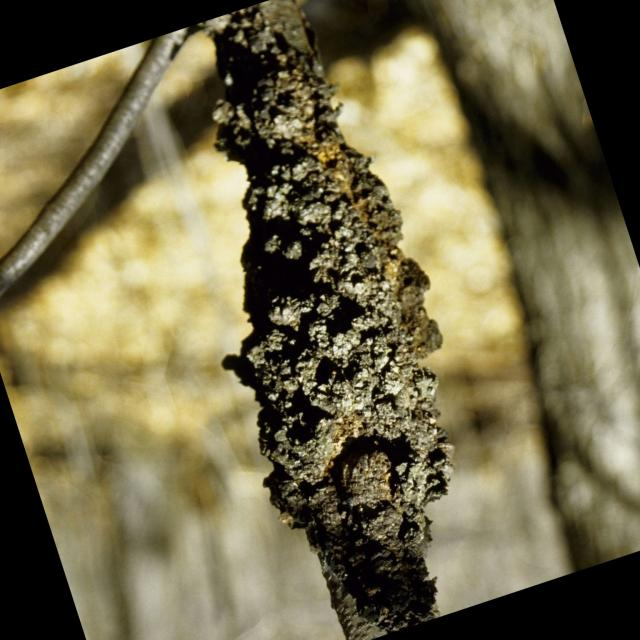Black_knot: (206, 1, 455, 638), (325, 430, 417, 516)
